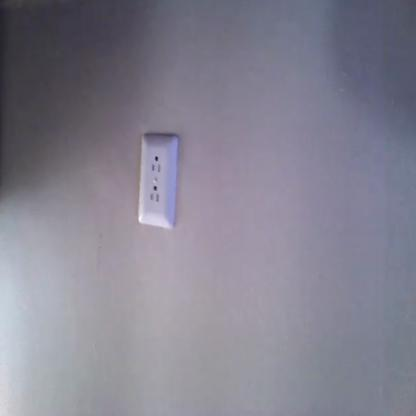OUTLET: (137, 134, 179, 230)
